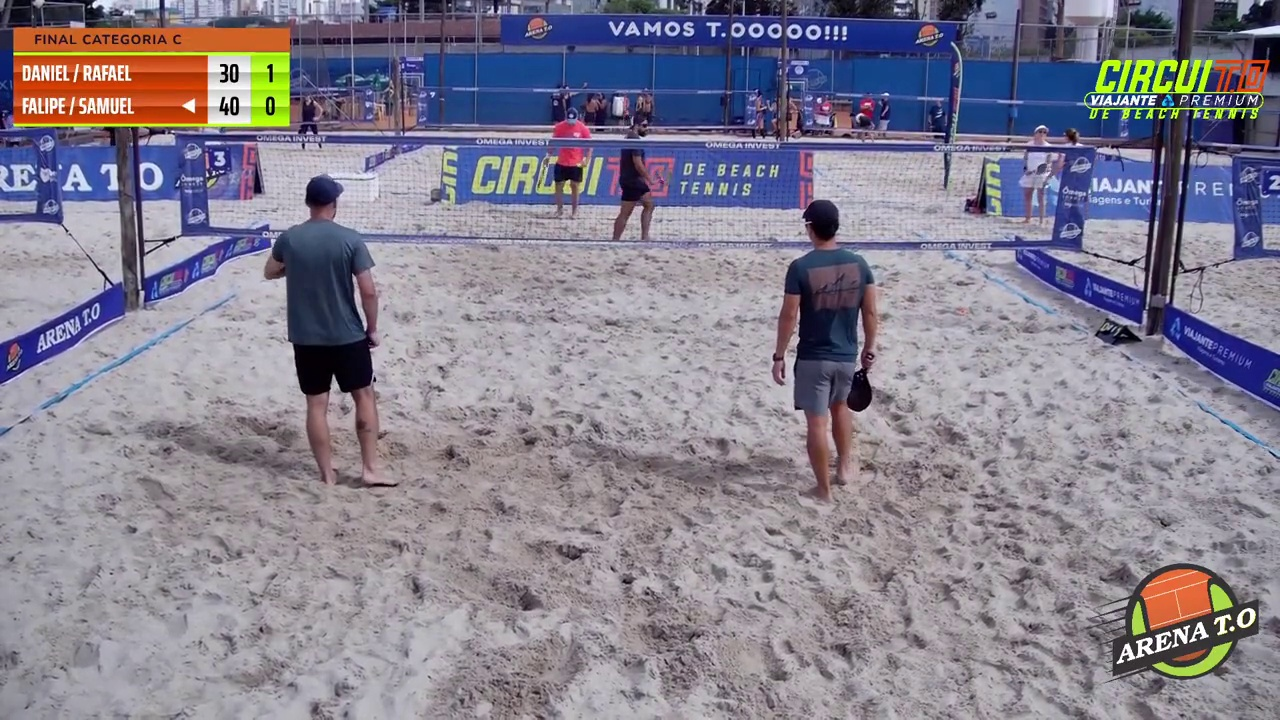court_line: (641, 0, 799, 341)
